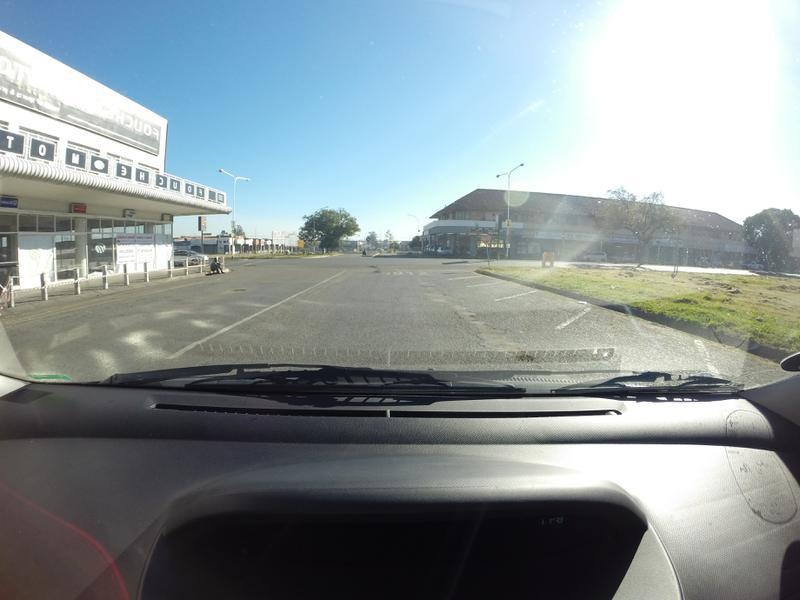pothole: (503, 351, 536, 365), (224, 287, 247, 295), (463, 310, 475, 321), (364, 262, 375, 267), (373, 268, 380, 273)
